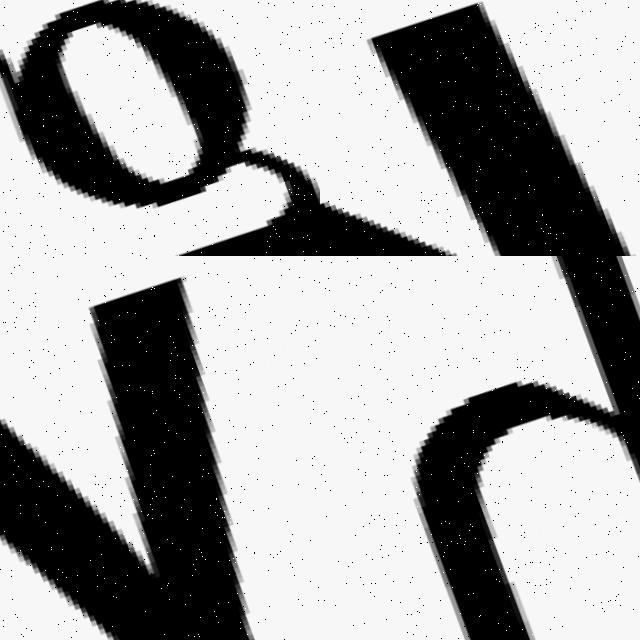G: (0, 0, 320, 256)
H: (414, 256, 640, 640)
K: (320, 0, 640, 256)
Y: (0, 256, 320, 640)
